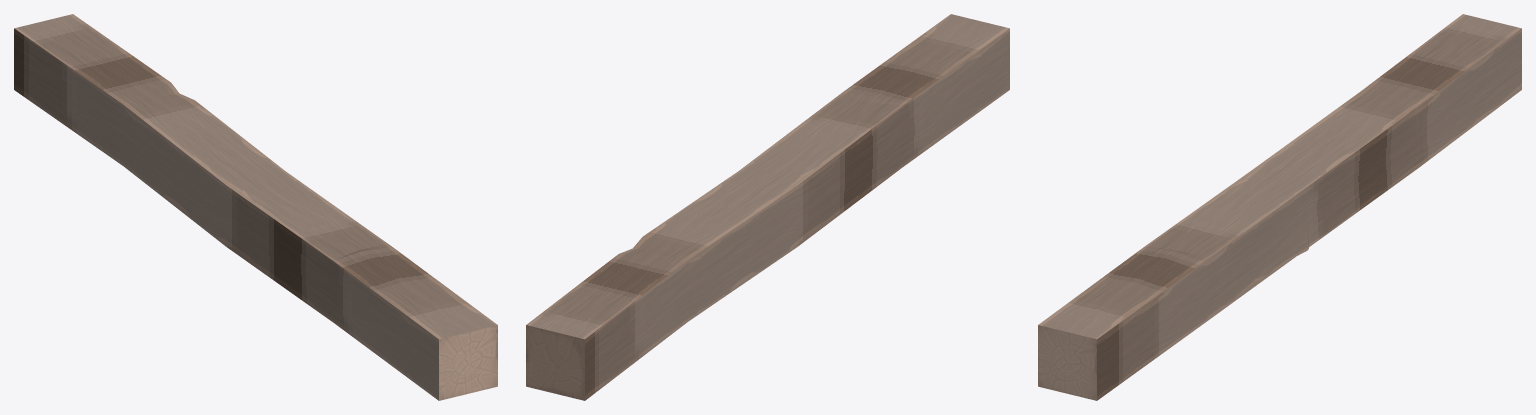
Rendered from SM_WoodBeam_02.fbx.
3 views of the same model, side by side, from view 1: azimuth 30°, elevation 25°; view 2: azimuth 150°, elevation 25°; view 3: azimuth 330°, elevation 25° (orthographic).
Visible parts, largest first — view 1: SM_WoodBeam_02; view 2: SM_WoodBeam_02; view 3: SM_WoodBeam_02.
Part boxes in pixels (<box>): SM_WoodBeam_02: <box>14,14,497,400</box>; SM_WoodBeam_02: <box>526,14,1009,400</box>; SM_WoodBeam_02: <box>1038,14,1521,400</box>.
Size of the model in its own units: 42.52 by 500 by 44.16.
